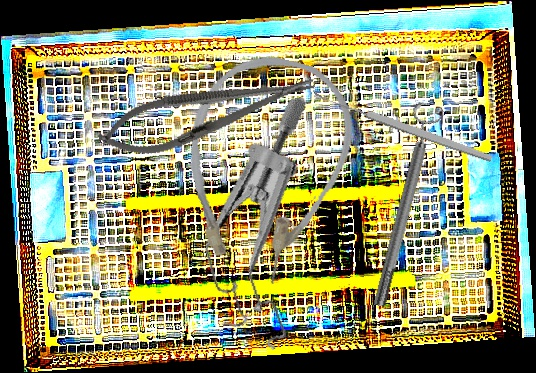Cannula: (159, 41, 368, 295)
Fixation Ring: (361, 101, 448, 310)
Needle Holder: (92, 58, 322, 168)
Speculum: (167, 95, 368, 362)
Surgical Spoon: (312, 89, 494, 164)
